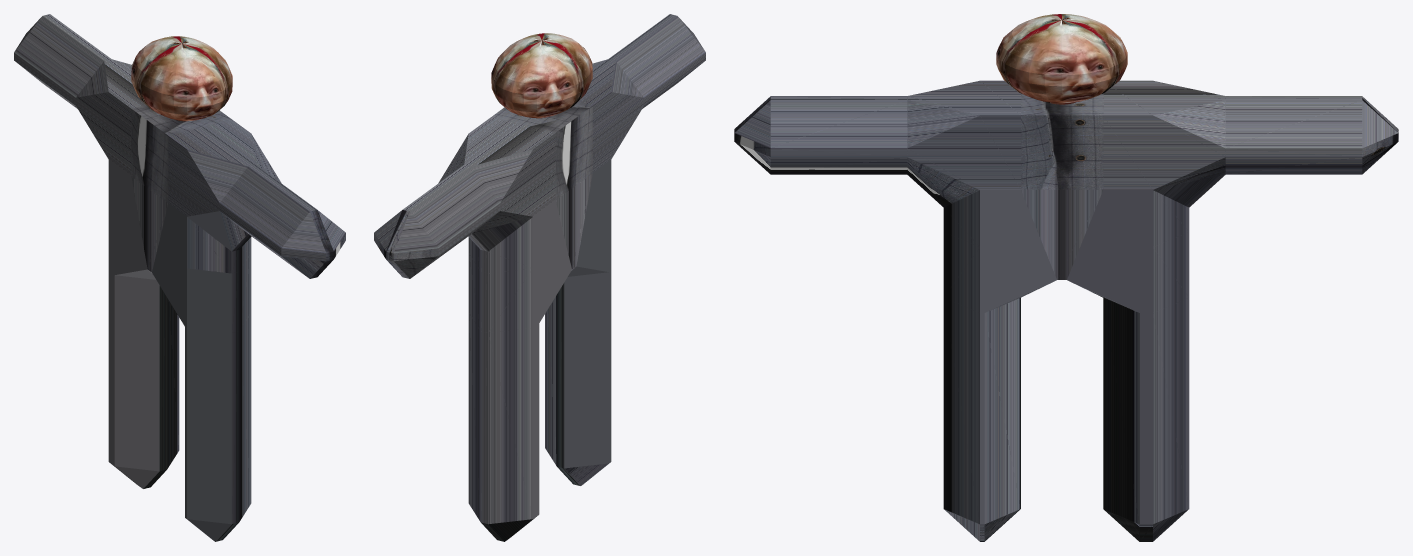
File: man.glb
3 views of the same model, side by side, from view 1: azimuth 30°, elevation 25°; view 2: azimuth 150°, elevation 25°; view 3: azimuth 270°, elevation 25° (orthographic). The views are drawn at different scales.
Visible parts, largest first — view 1: Sphere; view 2: Sphere; view 3: Sphere.
Part boxes in pixels (x1=…): Sphere: x1=14, y1=14, x2=345, y2=541; Sphere: x1=374, y1=14, x2=705, y2=541; Sphere: x1=734, y1=14, x2=1398, y2=541.
Size of the model in its own units: 0.6395 by 3.48 by 4.03.
Materials: 2 (2 with a texture image).
